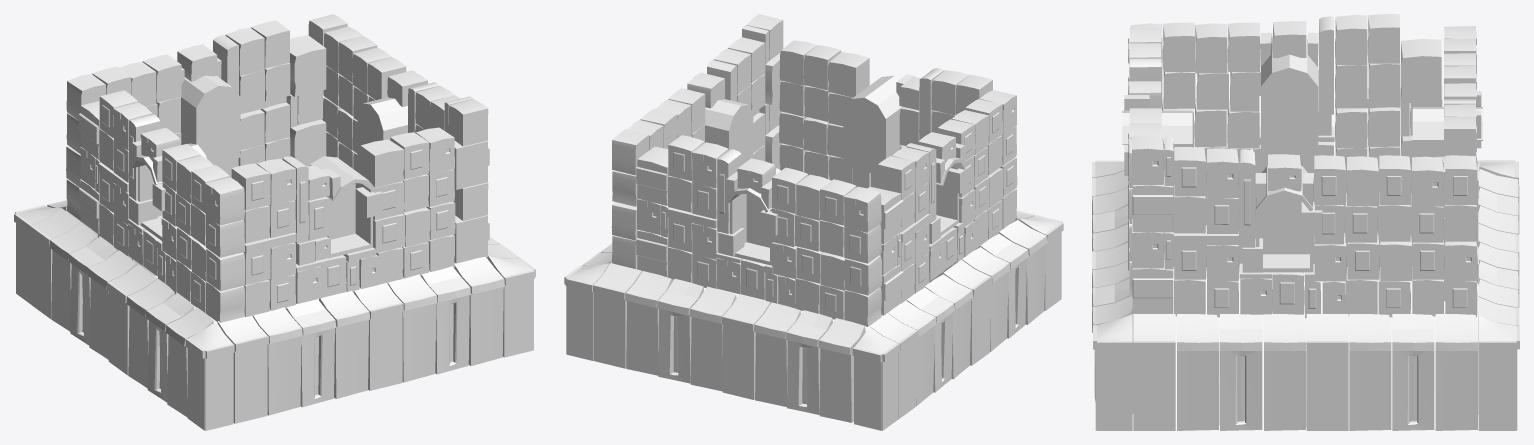
The model's file is monumento.fbx.
The picture shows the model from 3 angles, left to right: view 1: azimuth 30°, elevation 25°; view 2: azimuth 150°, elevation 25°; view 3: azimuth 270°, elevation 25°; orthographic projection. The views are drawn at different scales.
Visible parts, largest first — view 1: group51_pCube1270; view 2: group51_pCube1270; view 3: group51_pCube1270.
Part boxes in pixels (left/top/right/bottom): group51_pCube1270: left=14, top=14, right=535, bottom=430; group51_pCube1270: left=564, top=14, right=1063, bottom=430; group51_pCube1270: left=1092, top=14, right=1519, bottom=430.
Bounding box in the file's own units: 1952 × 1324 × 1933.
